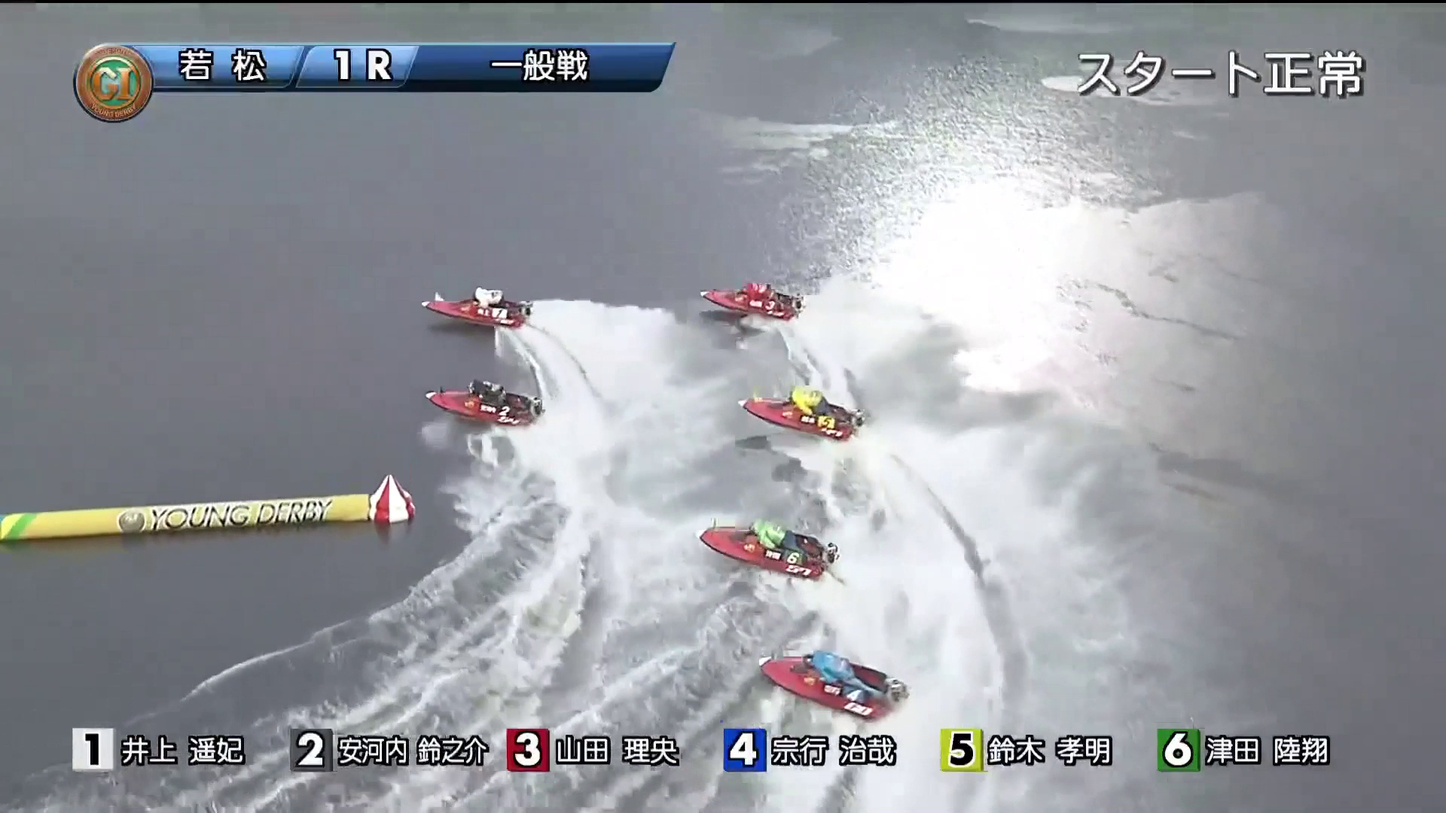１号艇: (458, 290, 528, 343)
２号艇: (425, 370, 554, 431)
３号艇: (700, 279, 798, 326)
４号艇: (717, 519, 851, 585)
５号艇: (772, 657, 895, 712)
６号艇: (741, 357, 841, 437)
